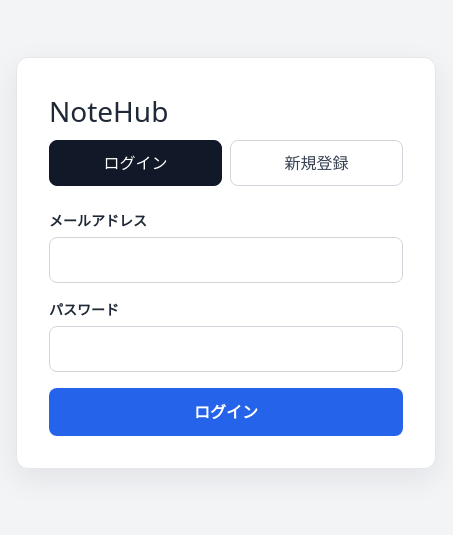
Test: LoginPage › shows login errors
Type "user@example.com" into the field labelled "メールアドレス" at x=226, y=260, box x1=49 y1=237 x2=403 y2=283
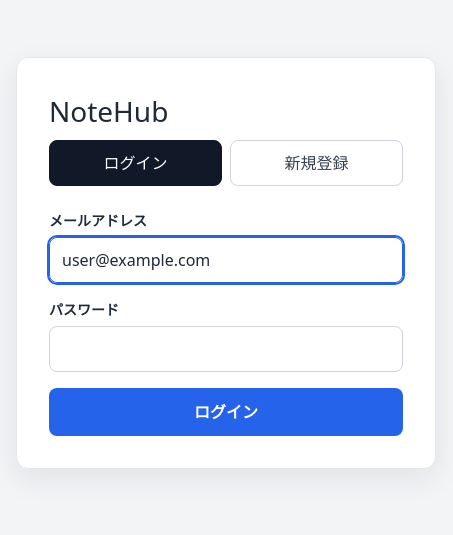
Type "abc12345" into the password field labelled "パスワード" at x=226, y=349, box x1=49 y1=326 x2=403 y2=372
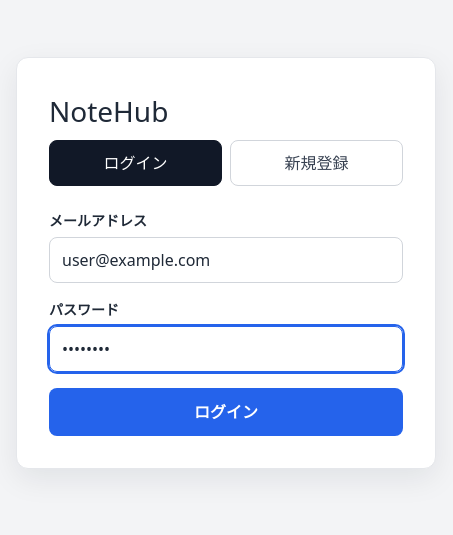
Click the button "ログイン" below "パスワード" at x=226, y=412, box x1=49 y1=388 x2=403 y2=436
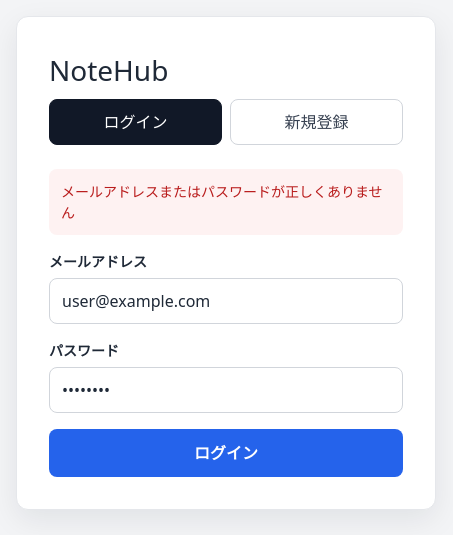
Now the text "メールアドレスまたはパスワードが正しくありません" is shown, box x1=49 y1=169 x2=403 y2=235
